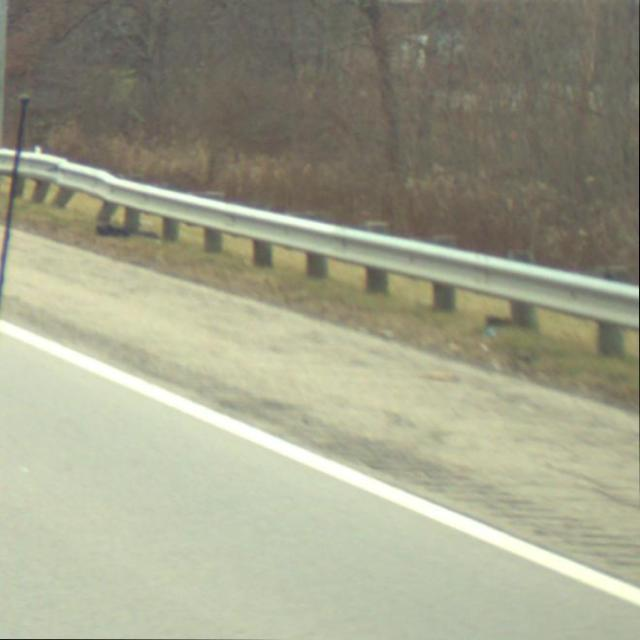Guard rail: (0, 144, 640, 369)
